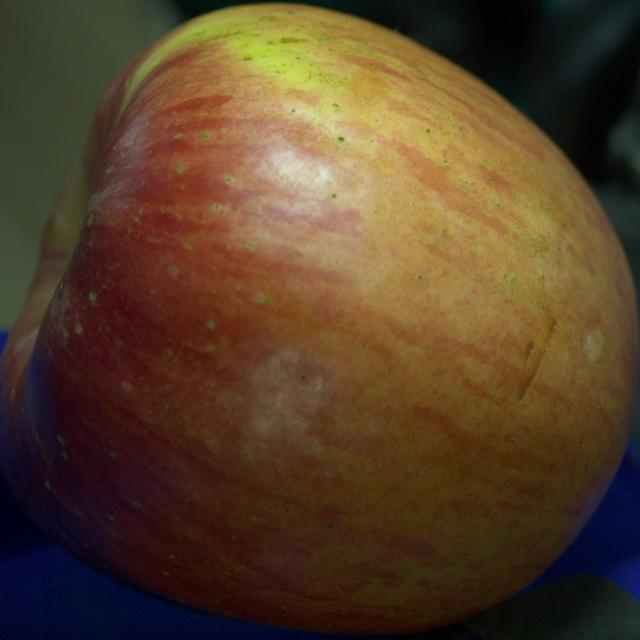apple: (0, 4, 639, 633)
scratch: (517, 319, 556, 399)
